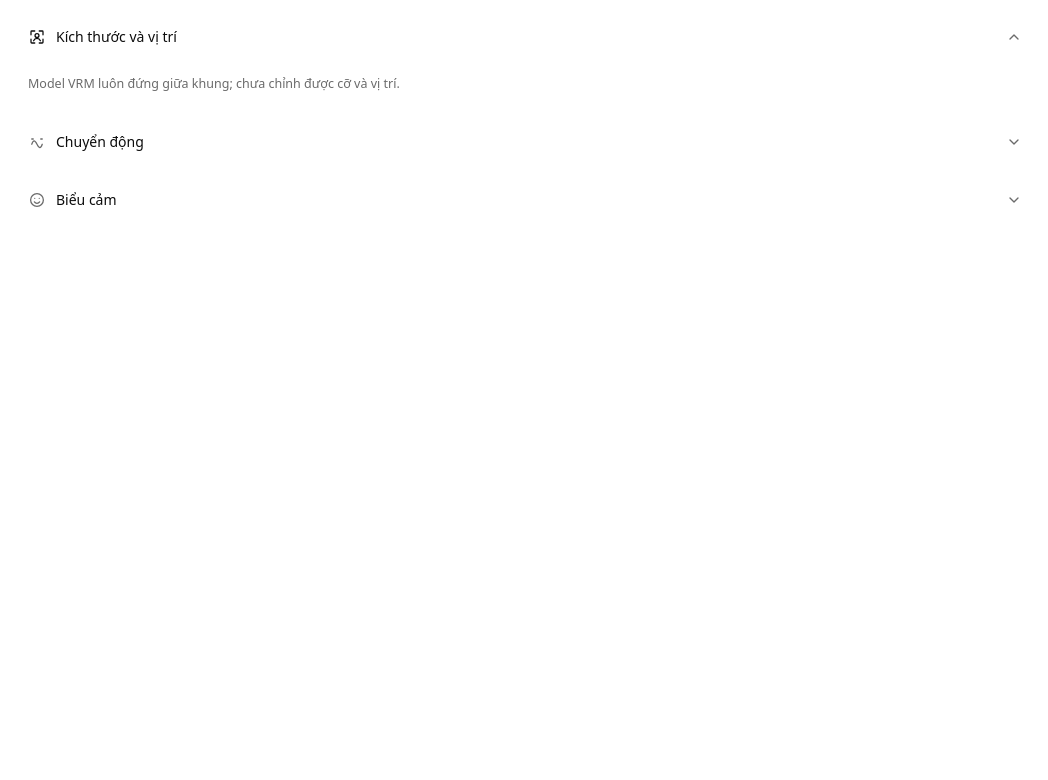
Scenario: VRM chỉ có cử động chung, nhìn ô chat và biểu cảm; không có cỡ, vị trí hay Nhún theo nhạc
Expected: the text "Model VRM luôn đứng giữa khung; chưa chỉnh được cỡ và vị trí." is shown, [28,75,400,92]
Click the button "Chuyển động".
click(100, 142)  # box [12,117,1036,167]
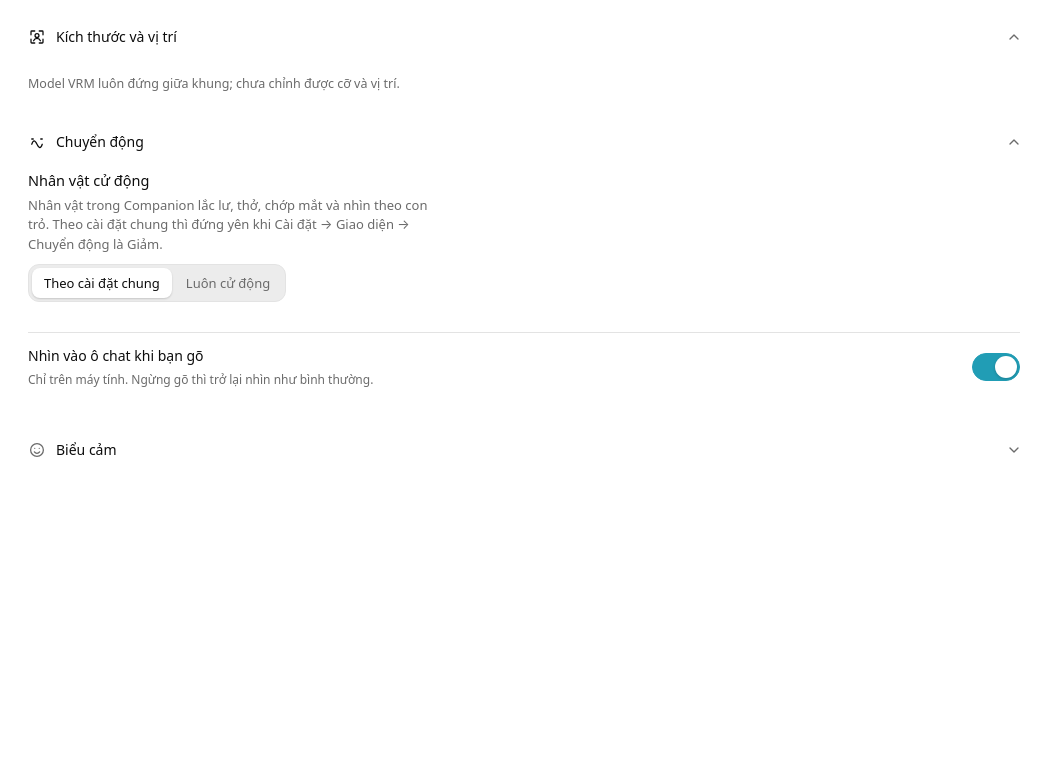
Expected: the element named "Nhân vật cử động" is shown, [28,264,286,302]
Result: the button "Chuyển động" is expanded at [12,117,1036,167]
Click the button "Biểu cảm".
click(86, 450)  # box [12,426,1036,476]
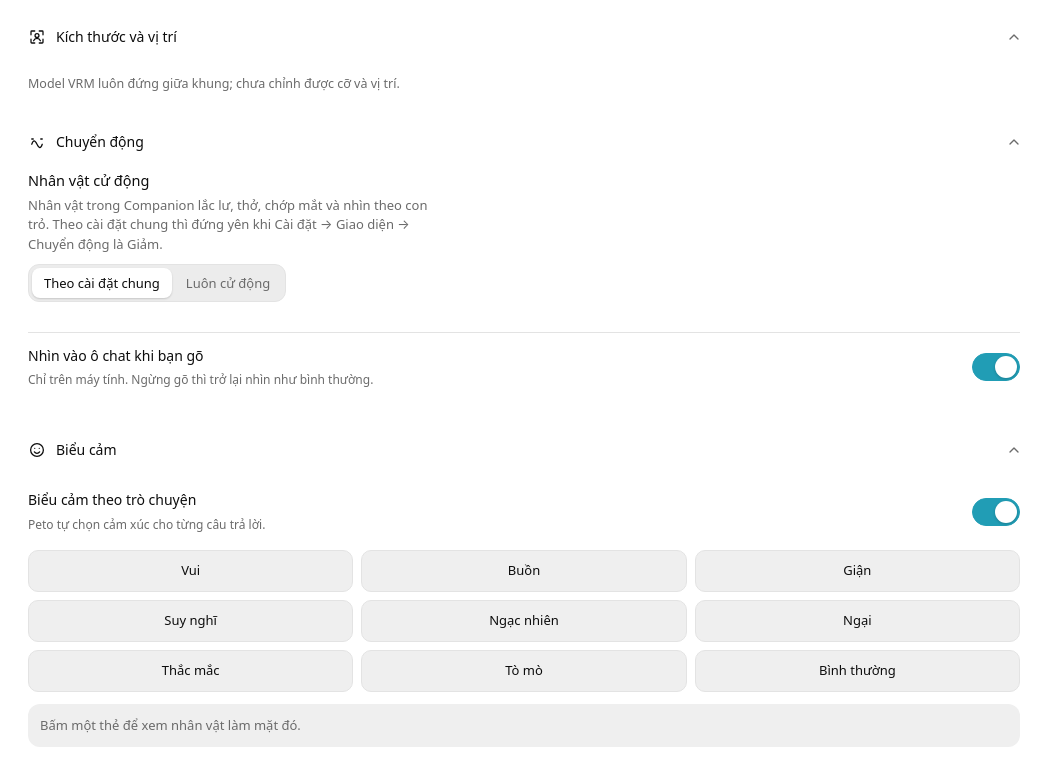
Result: the button "Biểu cảm" is expanded at [12,426,1036,476]
Click the button "Tò mò".
click(524, 671)  # box [361,650,687,692]
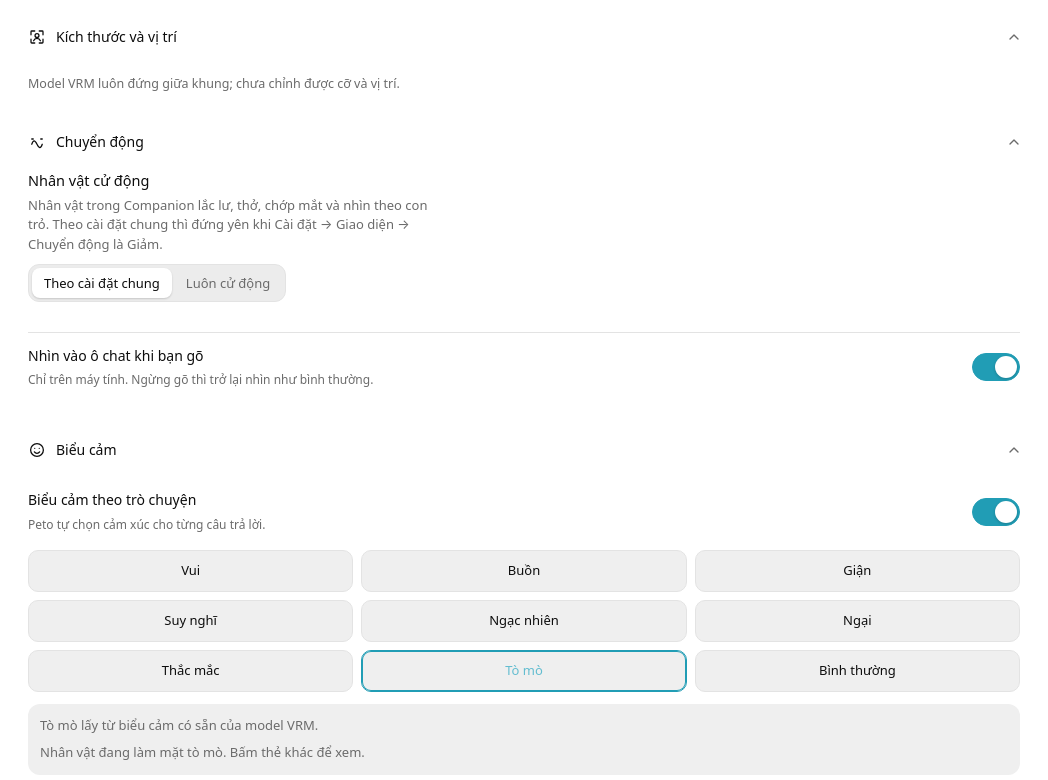
Result: the text "Tò mò lấy từ biểu cảm có sẵn của model VRM." is shown at [40,716,318,734]
